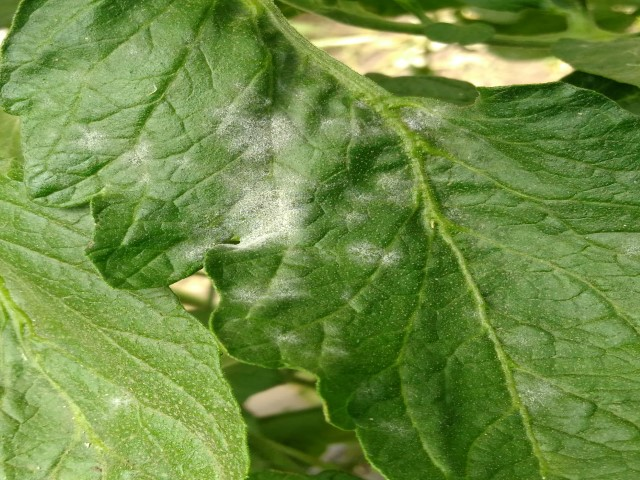oidio: (224, 169, 316, 248), (219, 103, 297, 158), (226, 274, 321, 314), (400, 102, 454, 135), (525, 377, 564, 412), (106, 385, 136, 416), (355, 248, 397, 268), (374, 174, 411, 196), (126, 135, 150, 168), (82, 130, 103, 154), (274, 328, 299, 348), (343, 211, 362, 226)
